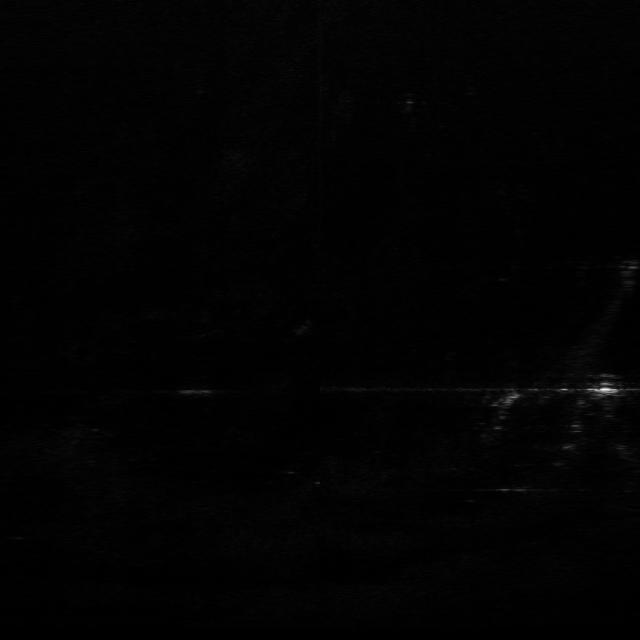rov: (587, 379, 623, 398)
